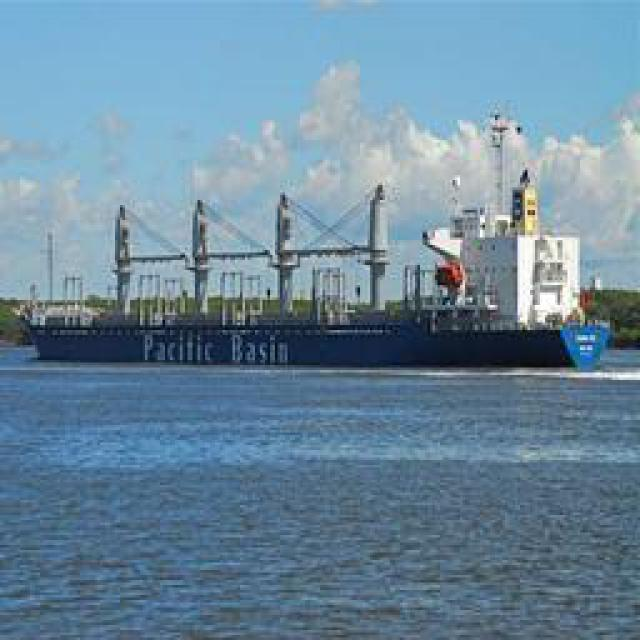Ship: (25, 305, 615, 368)
